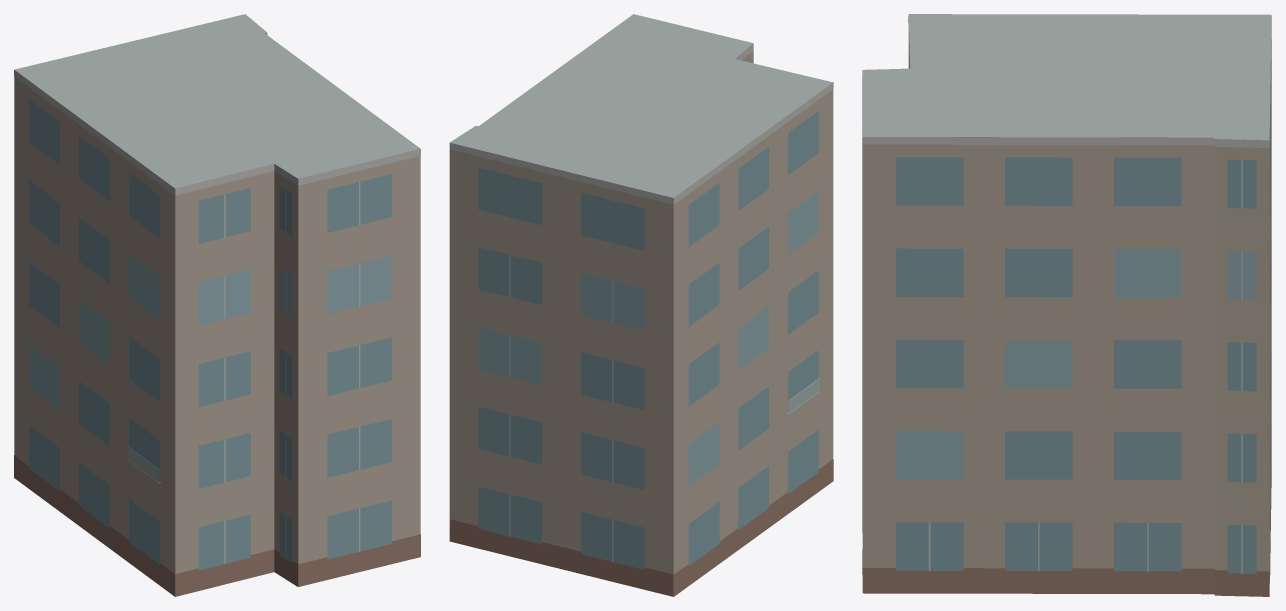
File: survey-upis-32820405.glb
The picture shows the model from 3 angles, left to right: view 1: azimuth 30°, elevation 25°; view 2: azimuth 150°, elevation 25°; view 3: azimuth 270°, elevation 25°; orthographic projection. The views are drawn at different scales.
Parts seen in each view (by area): view 1: survey-upis-32820405.tmp; view 2: survey-upis-32820405.tmp; view 3: survey-upis-32820405.tmp.
Boxes of the visible parts, x1,y1,x2,y2 form: survey-upis-32820405.tmp: (14, 14, 420, 596); survey-upis-32820405.tmp: (449, 14, 833, 596); survey-upis-32820405.tmp: (862, 14, 1271, 596).
Size of the model in its own units: 8.53 by 14.3 by 11.63.
